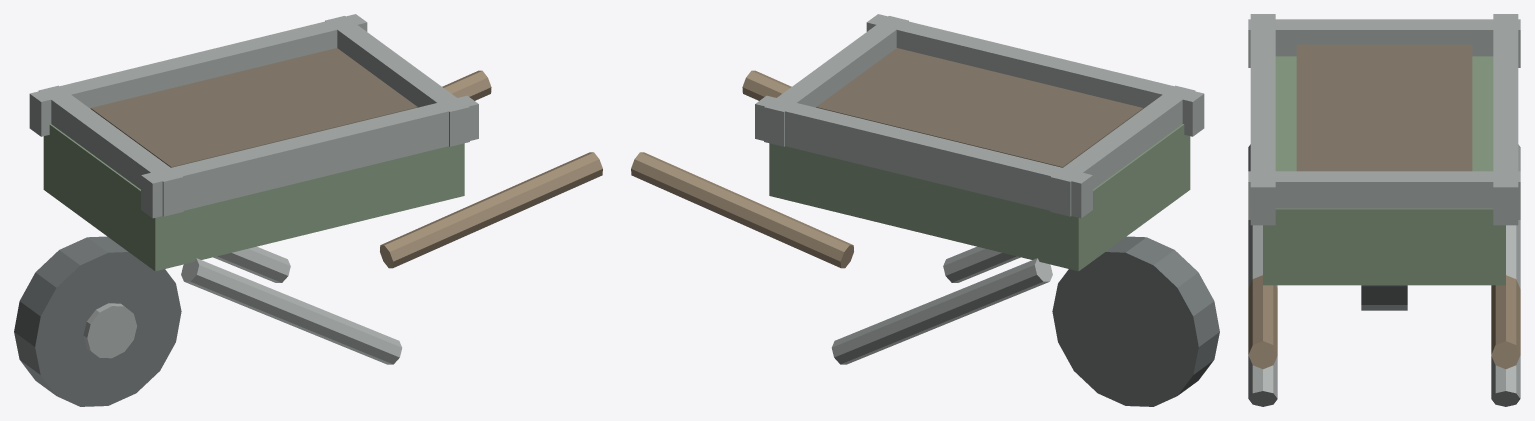
The model's file is allotment-wheelbarrow.glb.
3 renders of one model, left to right at view 1: azimuth 30°, elevation 25°; view 2: azimuth 150°, elevation 25°; view 3: azimuth 270°, elevation 25°, orthographic. The views are drawn at different scales.
Visible parts, largest first — view 1: tray lip, barrow tray, soil, rubber wheel, handle.001; view 2: tray lip, barrow tray, rubber wheel, soil, handle.001; view 3: tray lip, barrow tray, soil, handle.001, rubber wheel.
Boxes of the visible parts, box(x1,y1,x2,y2) form: tray lip: box(29, 14, 478, 364); barrow tray: box(43, 124, 464, 271); soil: box(90, 48, 417, 167); rubber wheel: box(14, 236, 181, 406); handle.001: box(380, 70, 602, 268); tray lip: box(755, 14, 1204, 364); barrow tray: box(769, 124, 1190, 271); rubber wheel: box(1052, 236, 1219, 406); soil: box(816, 48, 1143, 167); handle.001: box(631, 70, 853, 268); tray lip: box(1248, 14, 1520, 406); barrow tray: box(1263, 56, 1505, 285); soil: box(1296, 44, 1472, 171); handle.001: box(1248, 275, 1520, 369); rubber wheel: box(1361, 285, 1407, 310).
Size of the model in its own units: 1.56 by 0.75 by 0.65.
